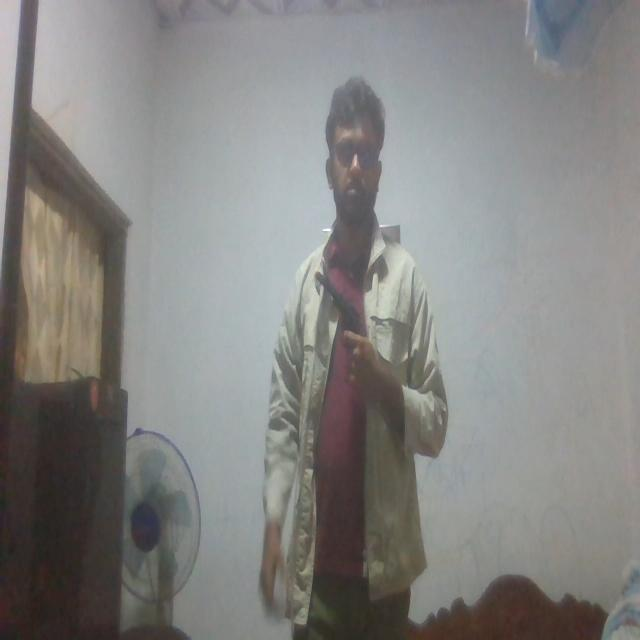Gun_Holder: (316, 268, 374, 379)
Jacket_Wearer: (249, 221, 449, 598)
Person: (259, 94, 444, 640)
